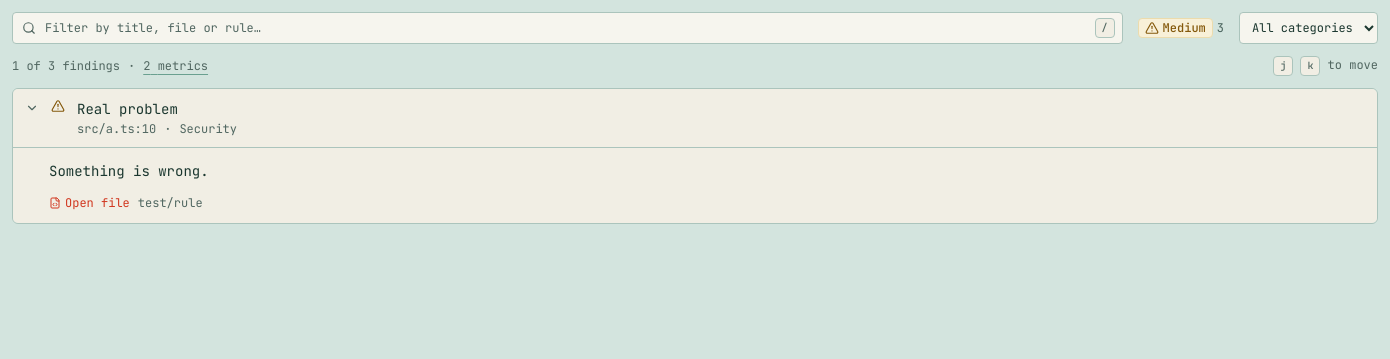
Test: FindingsPanel — prioritisation and the metric split › keeps metrics out of the default view but never hides that they exist
Expected: the text "Real problem" is shown, [77,100,178,118]
Expected: the text "File is long" is not shown
Note: The count is on screen, and it is the way back to them.
Click the button "2 metrics": (176, 66) [143,58,208,74]
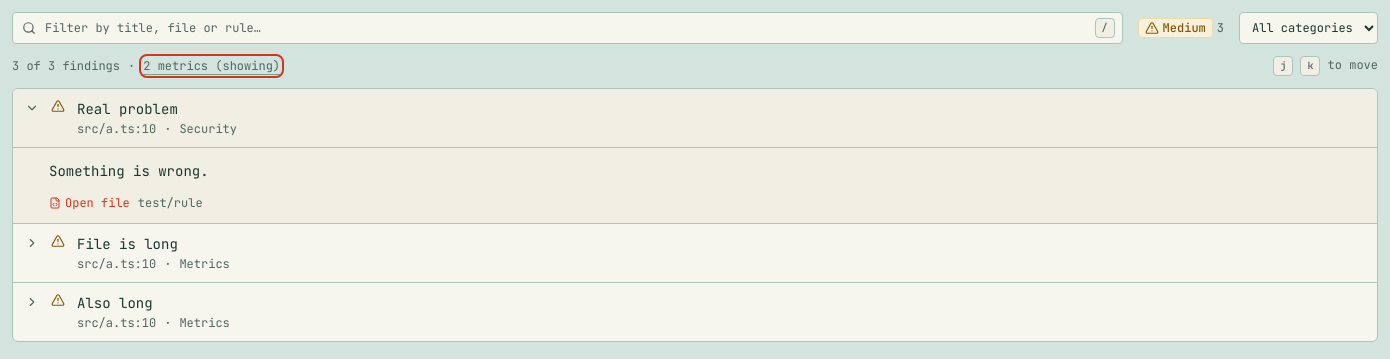
Now the text "File is long" is shown, box [77,235,178,253]
